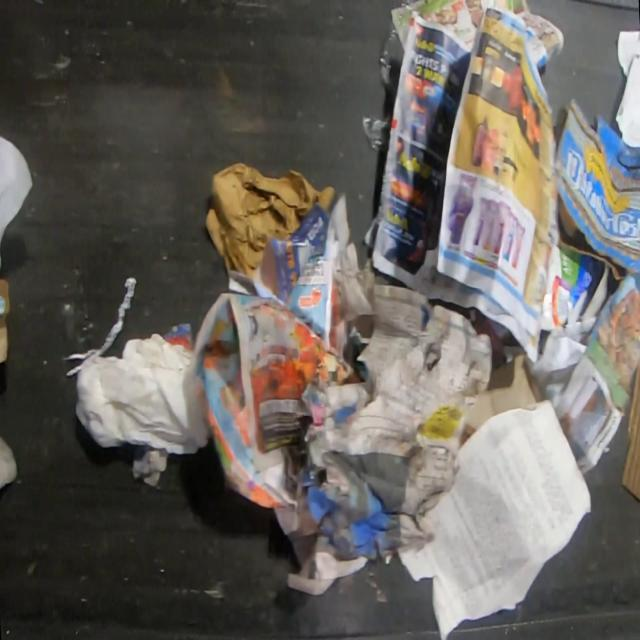cardboard: (551, 98, 640, 277), (459, 353, 544, 447), (538, 239, 601, 329), (621, 354, 640, 508), (0, 280, 10, 365)
soft_plastic: (379, 14, 412, 96), (362, 115, 391, 152)
